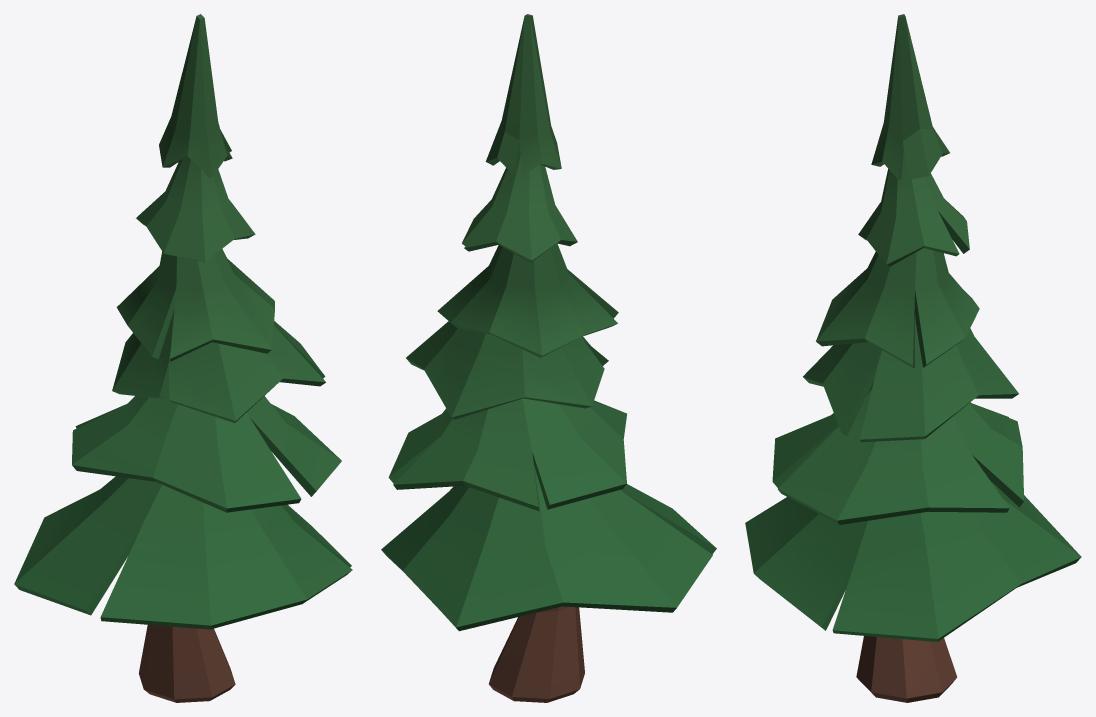
Rendered from nature_pine_tree_03_mdl.fbx.
3 renders of one model, left to right at view 1: azimuth 30°, elevation 25°; view 2: azimuth 150°, elevation 25°; view 3: azimuth 270°, elevation 25°, orthographic.
Parts seen in each view (by area): view 1: Low_Poly_Pine:pine_03; view 2: Low_Poly_Pine:pine_03; view 3: Low_Poly_Pine:pine_03.
Boxes of the visible parts, box(x1,y1,x2,y2) form: Low_Poly_Pine:pine_03: box(14, 14, 352, 702); Low_Poly_Pine:pine_03: box(381, 14, 716, 702); Low_Poly_Pine:pine_03: box(745, 14, 1081, 702).
Bounding box in the file's own units: 218 × 468 × 212.
